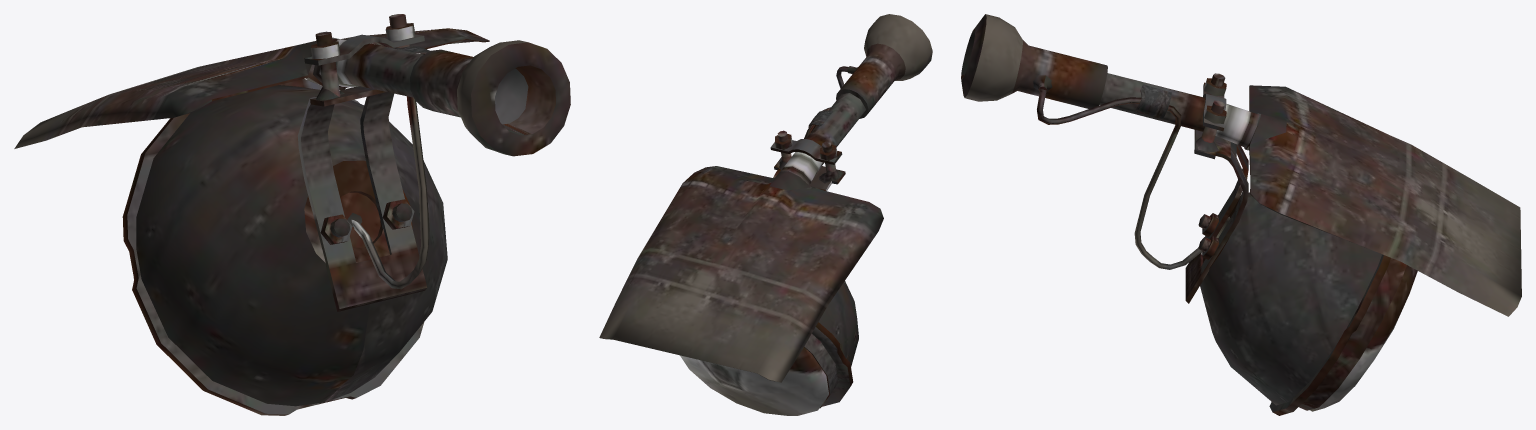
Rendered from dlc_lights_spotlight.glb.
3 views of the same model, side by side, from view 1: azimuth 30°, elevation 25°; view 2: azimuth 150°, elevation 25°; view 3: azimuth 270°, elevation 25° (orthographic). The views are drawn at different scales.
Visible parts, largest first — view 1: dlc_spotlight_light_lod0; view 2: dlc_spotlight_light_lod0; view 3: dlc_spotlight_light_lod0.
Boxes of the visible parts, <box> form: dlc_spotlight_light_lod0: <box>14,14,570,415</box>; dlc_spotlight_light_lod0: <box>599,14,932,415</box>; dlc_spotlight_light_lod0: <box>961,14,1521,415</box>.
Size of the model in its own units: 0.2698 by 0.3998 by 0.5319.
Materials: 1 (1 with a texture image).
